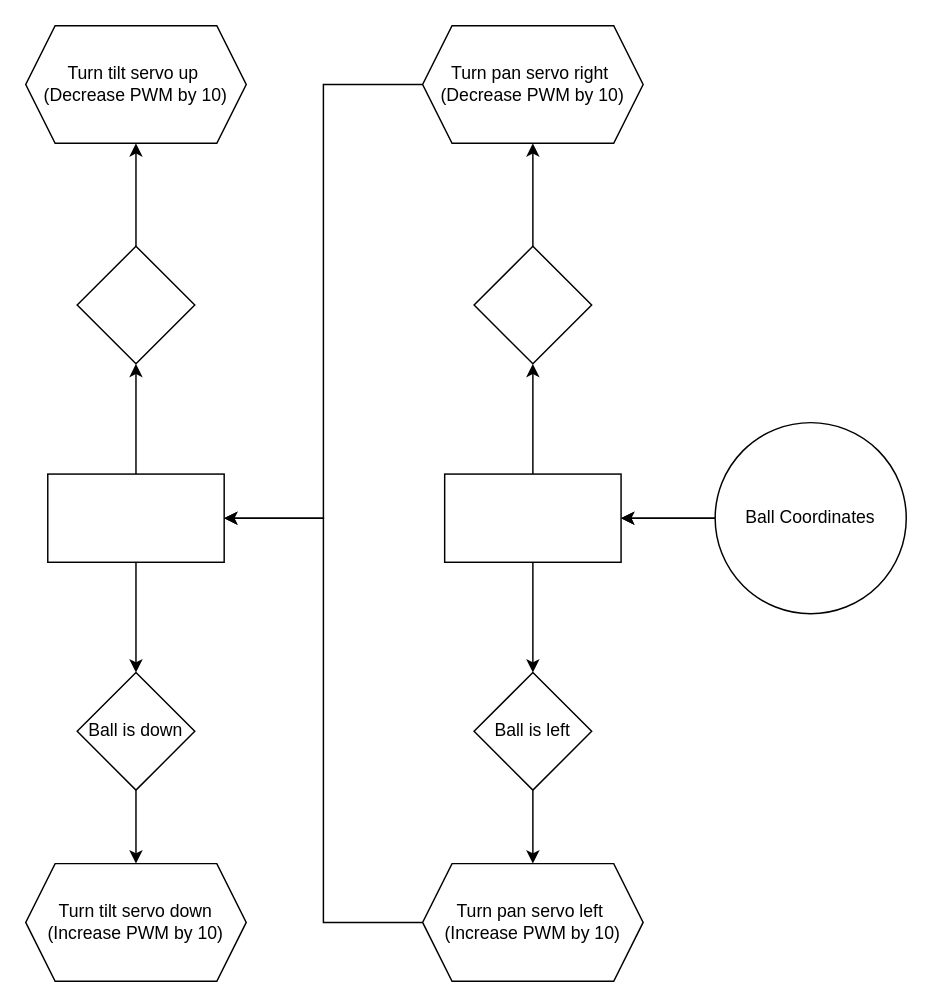
This 932x1007 diagram has some shape labels left out. Here are the shapes that lost their labels. From the top down, the centre of each, then its label:
At pixel 135 304: "Ball is up".
At pixel 532 304: "Ball is right".
At pixel 135 517: "Y - Axis (Tilt servo)".
At pixel 532 517: "X - Axis (Pan servo)".
